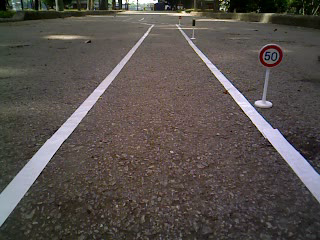limit 50: (259, 43, 284, 68)
